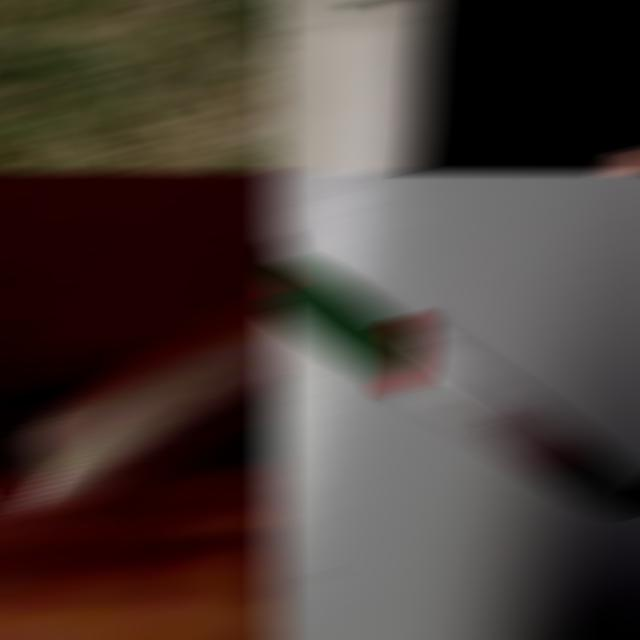Knife: (267, 246, 640, 513)
Knife_Handle: (14, 174, 283, 512), (0, 12, 277, 170)
